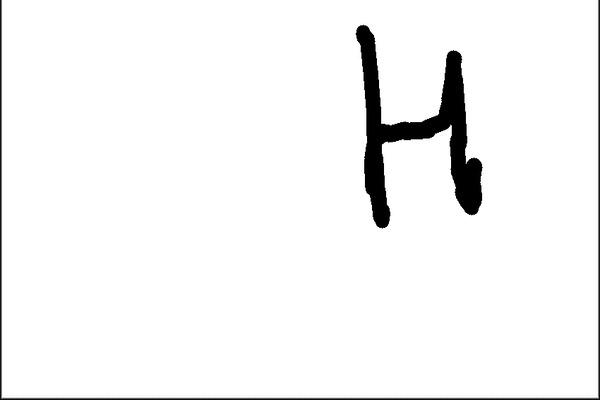H: (349, 14, 488, 232)
